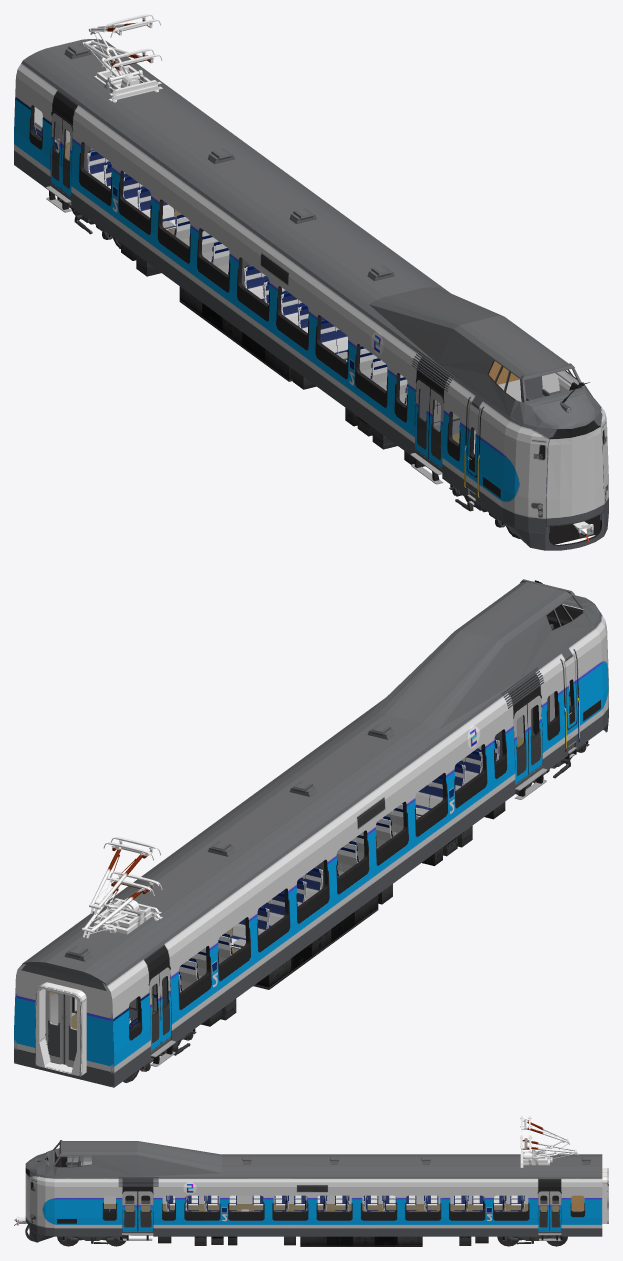
File: nsicmmfront.obj
3 renders of one model, top to bottom at view 1: azimuth 30°, elevation 25°; view 2: azimuth 150°, elevation 25°; view 3: azimuth 270°, elevation 25°, orthographic. The views are drawn at different scales.
Parts seen in each view (by area): view 1: side, jibung, chair_second, front, side_front, habu, jibungparts, m_panto6m, door_RF, door_RB, m_panto, frontparts (+5 smaller); view 2: side, jibung, chair_second, backout, habu, mak, m_panto6m, jibungparts, backdoor, m_panto, door_RF, door_RB (+4 smaller); view 3: side, jibung, chair_second, habu, badak, side_front, DT71, door_LB, inside, door_LF, m_panto6m, jibungparts (+7 smaller).
Boxes of the visible parts, <box> form: side: <box>14,61,571,522</box>; jibung: <box>23,39,599,428</box>; chair_second: <box>87,150,407,405</box>; front: <box>546,419,603,533</box>; side_front: <box>502,399,608,533</box>; habu: <box>121,243,600,544</box>; jibungparts: <box>64,43,454,391</box>; m_panto6m: <box>88,14,161,96</box>; door_RF: <box>61,119,443,468</box>; door_RB: <box>50,113,430,458</box>; m_panto: <box>81,40,162,102</box>; frontparts: <box>503,382,608,550</box>; side: <box>14,625,602,1087</box>; jibung: <box>24,582,599,983</box>; chair_second: <box>179,738,499,992</box>; backout: <box>17,962,110,1086</box>; habu: <box>201,789,515,1026</box>; mak: <box>35,982,86,1076</box>; m_panto6m: <box>89,837,161,927</box>; jibungparts: <box>64,667,544,961</box>; backdoor: <box>45,990,76,1066</box>; m_panto: <box>82,871,162,938</box>; door_RF: <box>159,695,542,1043</box>; door_RB: <box>149,704,528,1051</box>; side: <box>54,1154,602,1236</box>; jibung: <box>25,1141,602,1176</box>; chair_second: <box>166,1195,524,1211</box>; habu: <box>131,1235,488,1246</box>; badak: <box>104,1204,558,1211</box>; side_front: <box>30,1171,54,1236</box>; DT71: <box>57,1235,567,1246</box>; door_LB: <box>137,1191,561,1231</box>; inside: <box>67,1161,528,1203</box>; door_LF: <box>122,1191,549,1231</box>; m_panto6m: <box>520,1116,569,1165</box>; jibungparts: <box>118,1156,590,1186</box>.
Bounding box in the file's own units: 3.17 × 5.74 × 26.18.
38 materials, 37 textured.
